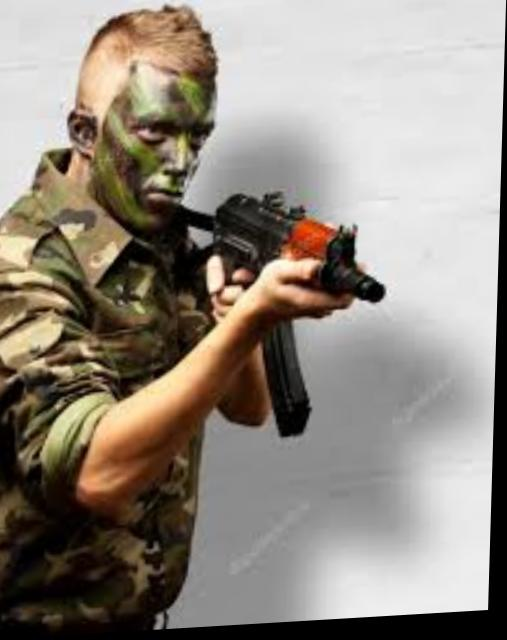other: (0, 0, 241, 639)
